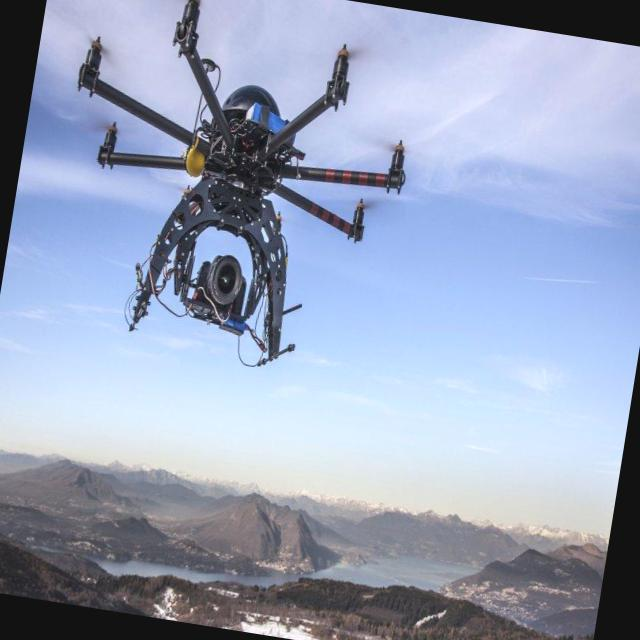drone: (36, 0, 431, 382)
